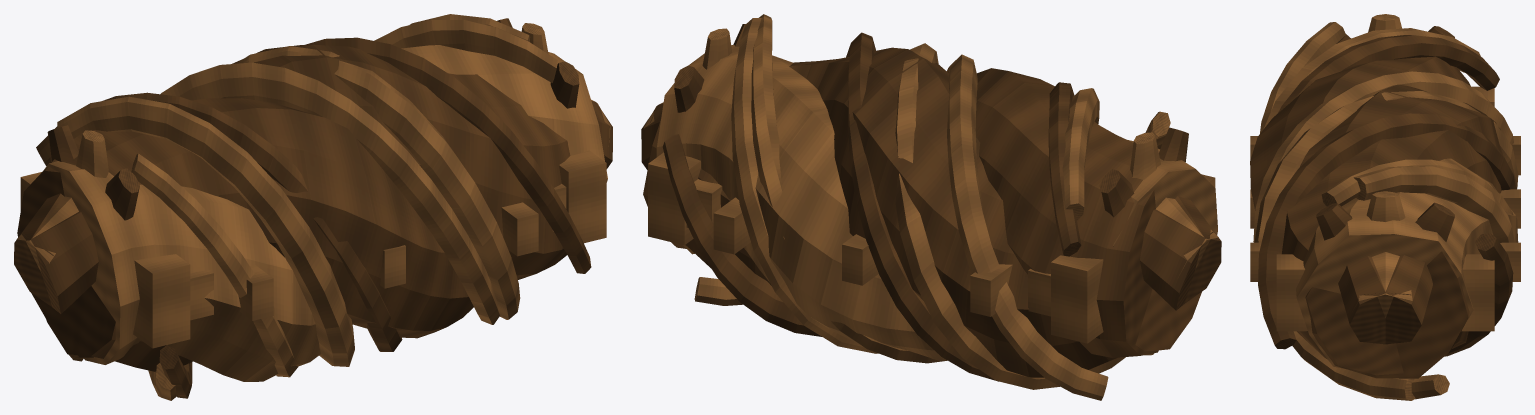
Rendered from rootforged-worldroot-beam-2m.glb.
3 renders of one model, left to right at view 1: azimuth 30°, elevation 25°; view 2: azimuth 150°, elevation 25°; view 3: azimuth 270°, elevation 25°, orthographic. The views are drawn at different scales.
Visible parts, largest first — view 1: braided-root-1, braided-root-0, braided-root-2, surface-root-vein-0, bark-ridge-3, surface-root-vein-1, bark-ridge-1, bark-ridge-2, bark-ridge-0, grown-foot-0-0, end-key-block-0, end-key-block-1 (+8 smaller); view 2: braided-root-1, braided-root-2, braided-root-0, bark-ridge-3, surface-root-vein-0, bark-ridge-0, surface-root-vein-1, bark-ridge-2, bark-ridge-1, grown-foot-0-2, end-key-block-0, end-key-block-1 (+9 smaller); view 3: braided-root-2, braided-root-0, braided-root-1, bark-ridge-2, bark-ridge-0, surface-root-vein-0, surface-root-vein-1, bark-ridge-3, end-key-block-1, grown-foot-1-2, grown-foot-1-0, bark-ridge-1 (+5 smaller).
Boxes of the visible parts, x1=… form: braided-root-1: x1=43, y1=45, x2=607, y2=381; braided-root-0: x1=17, y1=98, x2=473, y2=357; braided-root-2: x1=41, y1=44, x2=570, y2=371; surface-root-vein-0: x1=57, y1=14, x2=530, y2=366; bark-ridge-3: x1=68, y1=62, x2=500, y2=361; surface-root-vein-1: x1=148, y1=46, x2=520, y2=400; bark-ridge-1: x1=131, y1=19, x2=557, y2=377; bark-ridge-2: x1=159, y1=37, x2=591, y2=398; bark-ridge-0: x1=36, y1=92, x2=402, y2=351; grown-foot-0-0: x1=22, y1=168, x2=139, y2=313; end-key-block-0: x1=20, y1=172, x2=190, y2=348; end-key-block-1: x1=559, y1=150, x2=606, y2=243; braided-root-1: x1=656, y1=45, x2=1217, y2=360; braided-root-2: x1=789, y1=47, x2=1201, y2=377; braided-root-0: x1=643, y1=68, x2=1158, y2=357; bark-ridge-3: x1=694, y1=54, x2=1108, y2=400; surface-root-vein-0: x1=731, y1=18, x2=1099, y2=353; bark-ridge-0: x1=662, y1=82, x2=1081, y2=336; surface-root-vein-1: x1=895, y1=43, x2=1125, y2=389; bark-ridge-2: x1=846, y1=32, x2=998, y2=381; bark-ridge-1: x1=751, y1=14, x2=1170, y2=363; grown-foot-0-2: x1=1099, y1=169, x2=1213, y2=310; end-key-block-0: x1=1051, y1=174, x2=1215, y2=343; end-key-block-1: x1=648, y1=152, x2=700, y2=245; braided-root-2: x1=1282, y1=84, x2=1503, y2=375; braided-root-0: x1=1250, y1=56, x2=1470, y2=378; braided-root-1: x1=1296, y1=158, x2=1518, y2=368; bark-ridge-2: x1=1258, y1=113, x2=1515, y2=349; bark-ridge-0: x1=1278, y1=35, x2=1513, y2=356; surface-root-vein-0: x1=1263, y1=28, x2=1514, y2=242; surface-root-vein-1: x1=1254, y1=91, x2=1518, y2=400; bark-ridge-3: x1=1253, y1=71, x2=1513, y2=399; end-key-block-1: x1=1276, y1=254, x2=1494, y2=331; grown-foot-1-2: x1=1360, y1=202, x2=1454, y2=344; grown-foot-1-0: x1=1316, y1=202, x2=1411, y2=344; bark-ridge-1: x1=1260, y1=22, x2=1513, y2=214.
Size of the model in its own units: 2 by 1 by 1.
2 materials, 2 textured.
